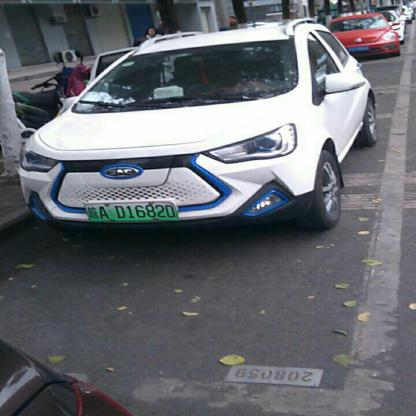lp: (83, 202, 179, 223)
